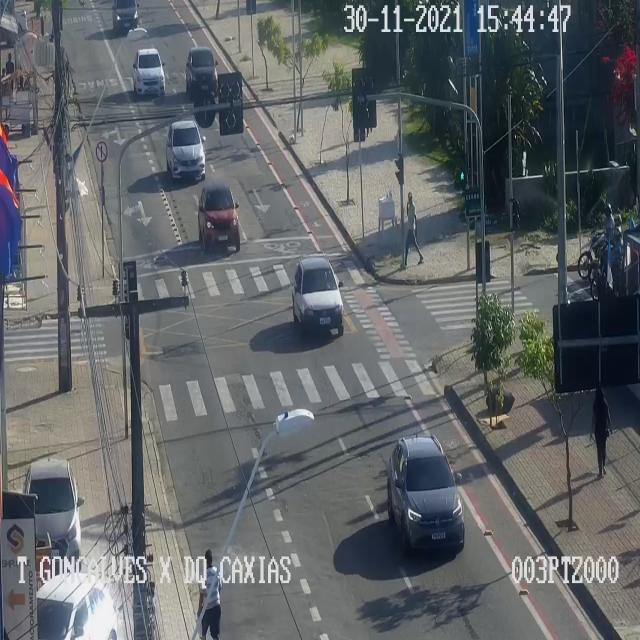Car: (388, 434, 464, 552), (26, 458, 84, 562), (35, 573, 121, 639), (294, 255, 344, 336), (196, 184, 242, 255), (166, 120, 206, 179), (132, 47, 164, 96), (187, 47, 219, 95), (110, 1, 145, 35)
Motorcycle: (578, 204, 628, 278), (590, 226, 640, 298)
